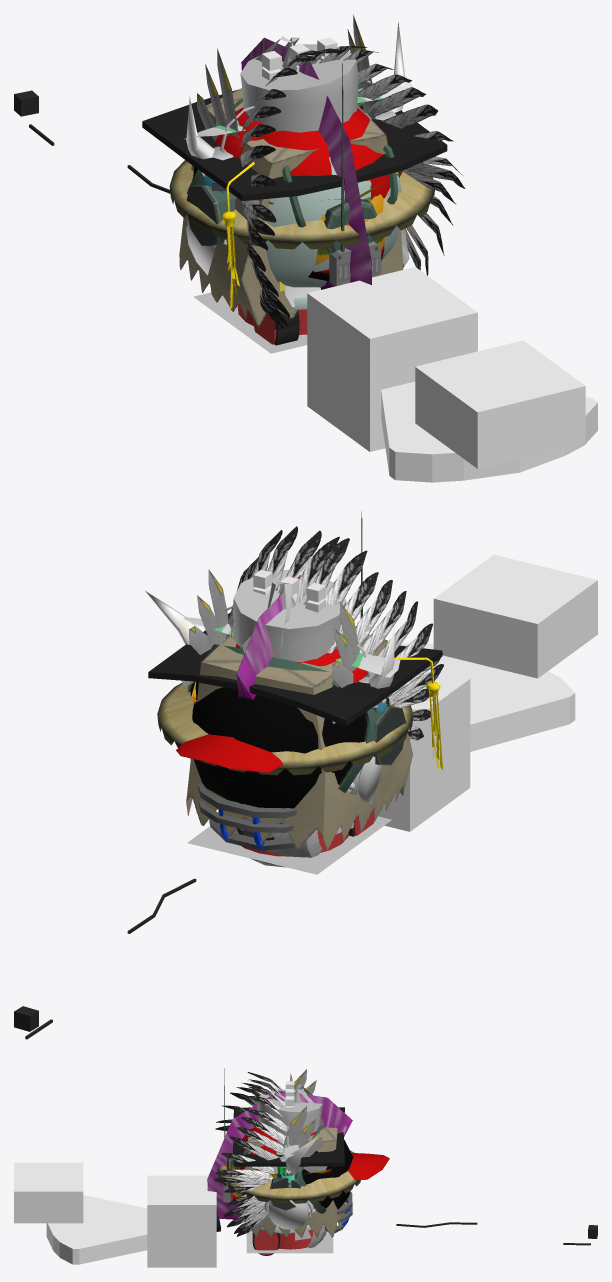
File: FinalPlayer.fbx
The picture shows the model from 3 angles, top to bottom: view 1: azimuth 30°, elevation 25°; view 2: azimuth 150°, elevation 25°; view 3: azimuth 270°, elevation 25°; orthographic projection. The views are drawn at different scales.
Visible parts, largest first — view 1: Collector, Tester, NativeAmericanHat, SpaceHelmet, GraduationHat, PaperBag, SuctionAreaModel, AsianHat, TopHat, Mohawk, BasballCap, ValkyreHelmet (+8 smaller); view 2: Tester, SpaceHelmet, PaperBag, NativeAmericanHat, Collector, SuctionAreaModel, GraduationHat, TopHat, AsianHat, ValkyreHelmet, FootballHelmet, Shadow (+7 smaller); view 3: Collector, NativeAmericanHat, SuctionAreaModel, Tester, Mohawk, SpaceHelmet, AsianHat, PaperBag, GraduationHat, ValkyreHelmet, TopHat, BasballCap (+6 smaller).
Part boxes in pixels (box(x1,y1,x2,y2)): Collector: box(307, 267, 477, 451); Tester: box(415, 340, 585, 468); NativeAmericanHat: box(240, 46, 465, 328); SpaceHelmet: box(186, 63, 401, 310); GraduationHat: box(142, 89, 447, 310); PaperBag: box(179, 88, 403, 327); SuctionAreaModel: box(381, 381, 597, 482); AsianHat: box(169, 160, 434, 249); TopHat: box(240, 44, 358, 132); Mohawk: box(241, 37, 372, 289); BasballCap: box(263, 108, 390, 199); ValkyreHelmet: box(197, 15, 409, 292); Tester: box(433, 554, 597, 678); SpaceHelmet: box(187, 511, 406, 820); PaperBag: box(186, 635, 412, 850); NativeAmericanHat: box(226, 526, 443, 740); Collector: box(378, 669, 470, 831); SuctionAreaModel: box(400, 643, 575, 751); GraduationHat: box(148, 612, 443, 770); TopHat: box(233, 569, 346, 661); AsianHat: box(157, 683, 413, 775); ValkyreHelmet: box(181, 569, 359, 724); FootballHelmet: box(198, 784, 296, 850); Shadow: box(187, 816, 391, 874); Collector: box(147, 1175, 216, 1267); NativeAmericanHat: box(214, 1072, 286, 1236); SuctionAreaModel: box(46, 1195, 147, 1264); Tester: box(14, 1162, 83, 1223); Mohawk: box(207, 1090, 352, 1219); SpaceHelmet: box(223, 1068, 353, 1233); AsianHat: box(217, 1150, 360, 1203); PaperBag: box(247, 1127, 345, 1237); GraduationHat: box(233, 1106, 344, 1166); ValkyreHelmet: box(254, 1069, 327, 1229); TopHat: box(257, 1089, 322, 1135); BasballCap: box(239, 1127, 389, 1180).
Size of the model in its own units: 1.79 by 2.31 by 6.75.
